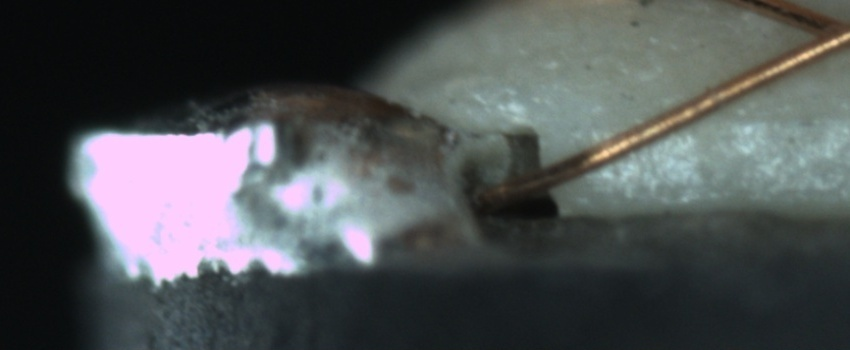CL: (780, 1, 849, 66)
DL: (682, 86, 850, 148)
